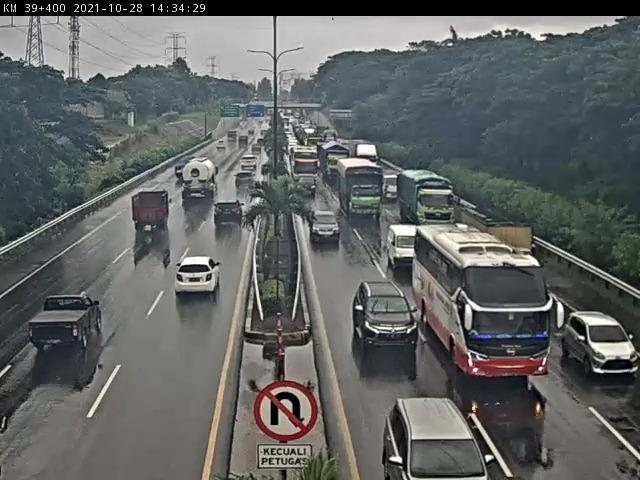bus: (414, 222, 557, 385)
car: (383, 395, 500, 480), (355, 279, 425, 353), (563, 312, 640, 379), (173, 255, 222, 300), (386, 221, 421, 274), (307, 207, 341, 245), (214, 191, 248, 223), (295, 173, 320, 202), (231, 160, 252, 180), (189, 156, 206, 175)
truck: (460, 205, 540, 255), (395, 171, 461, 228), (338, 157, 386, 221), (130, 190, 172, 233), (181, 158, 222, 202), (176, 158, 195, 184)
